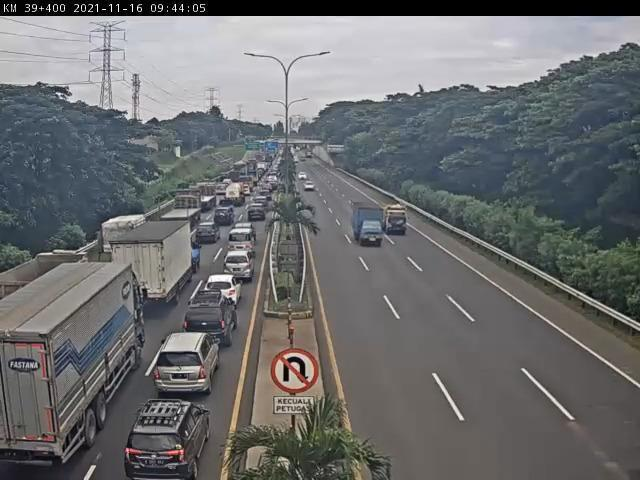car: (125, 402, 211, 480), (152, 331, 223, 396), (183, 289, 241, 349), (206, 271, 246, 311), (225, 247, 257, 284), (230, 231, 256, 259), (235, 225, 260, 254), (196, 224, 219, 254), (209, 207, 230, 237), (244, 207, 266, 235)
truck: (1, 262, 151, 468), (113, 220, 198, 307), (151, 194, 195, 245), (355, 202, 388, 249), (183, 185, 213, 218), (382, 201, 408, 238)
